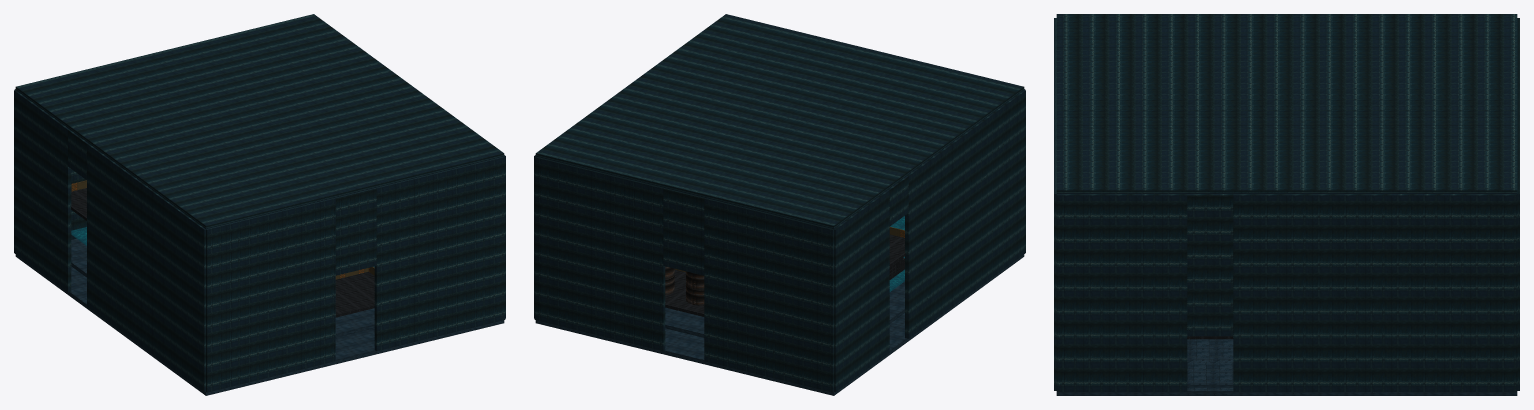
The model's file is rdx_waterworks_freight_sump.glb.
3 views of the same model, side by side, from view 1: azimuth 30°, elevation 25°; view 2: azimuth 150°, elevation 25°; view 3: azimuth 270°, elevation 25° (orthographic). The views are drawn at different scales.
Parts seen in each view (by area): view 1: SHELL_CEILING, SHELL_WALL_SOUTH_RIGHT, SHELL_WALL_SOUTH_0_LEFT, SHELL_WALL_WEST_RIGHT, SHELL_WALL_WEST_0_LEFT, SHELL_FLOOR_BOTTOM, SHELL_DOOR_HEADER_SOUTH_0, WALK_ENTRY_CATWALK, WALK_SUMP_BOTTOM, SHELL_DOOR_HEADER_WEST_0; view 2: SHELL_CEILING, SHELL_WALL_NORTH_RIGHT, SHELL_WALL_NORTH_0_LEFT, SHELL_WALL_WEST_RIGHT, SHELL_WALL_WEST_0_LEFT, SHELL_DOOR_HEADER_NORTH_0, SHELL_FLOOR_BOTTOM, WALK_SUMP_BOTTOM, WALK_NORTH_PUMP_DECK, SHELL_DOOR_HEADER_WEST_0, FIXTURE_RESERVOIR_0, WALK_WEST_GANTRY; view 3: SHELL_CEILING, SHELL_WALL_EAST_0_LEFT, SHELL_WALL_EAST_RIGHT, SHELL_DOOR_HEADER_EAST_0, SHELL_FLOOR_BOTTOM, WALK_DRAIN_TUNNEL, WALK_SUMP_BOTTOM, SHELL_WALL_NORTH_RIGHT, SHELL_WALL_SOUTH_RIGHT.
Boxes of the visible parts, left/top/right/bottom form: SHELL_CEILING: left=15, top=14, right=504, bottom=229; SHELL_WALL_SOUTH_RIGHT: left=374, top=156, right=505, bottom=351; SHELL_WALL_SOUTH_0_LEFT: left=206, top=198, right=335, bottom=392; SHELL_WALL_WEST_RIGHT: left=87, top=143, right=205, bottom=392; SHELL_WALL_WEST_0_LEFT: left=14, top=90, right=71, bottom=292; SHELL_FLOOR_BOTTOM: left=15, top=238, right=504, bottom=395; SHELL_DOOR_HEADER_SOUTH_0: left=335, top=188, right=376, bottom=275; WALK_ENTRY_CATWALK: left=335, top=271, right=374, bottom=317; WALK_SUMP_BOTTOM: left=71, top=253, right=374, bottom=337; SHELL_DOOR_HEADER_WEST_0: left=68, top=129, right=88, bottom=179; SHELL_CEILING: left=535, top=14, right=1024, bottom=229; SHELL_WALL_NORTH_RIGHT: left=534, top=156, right=665, bottom=351; SHELL_WALL_NORTH_0_LEFT: left=704, top=198, right=833, bottom=392; SHELL_WALL_WEST_RIGHT: left=905, top=90, right=1025, bottom=338; SHELL_WALL_WEST_0_LEFT: left=834, top=190, right=889, bottom=392; SHELL_DOOR_HEADER_NORTH_0: left=663, top=188, right=704, bottom=275; SHELL_FLOOR_BOTTOM: left=535, top=254, right=1024, bottom=395; WALK_SUMP_BOTTOM: left=665, top=281, right=904, bottom=337; WALK_NORTH_PUMP_DECK: left=665, top=269, right=704, bottom=316; SHELL_DOOR_HEADER_WEST_0: left=888, top=176, right=908, bottom=226; FIXTURE_RESERVOIR_0: left=686, top=271, right=704, bottom=305; WALK_WEST_GANTRY: left=889, top=234, right=905, bottom=267; SHELL_CEILING: left=1056, top=14, right=1517, bottom=193; SHELL_WALL_EAST_0_LEFT: left=1233, top=194, right=1517, bottom=391; SHELL_WALL_EAST_RIGHT: left=1056, top=194, right=1187, bottom=391; SHELL_DOOR_HEADER_EAST_0: left=1187, top=194, right=1233, bottom=336; SHELL_FLOOR_BOTTOM: left=1056, top=387, right=1517, bottom=395; WALK_DRAIN_TUNNEL: left=1187, top=361, right=1233, bottom=387; WALK_SUMP_BOTTOM: left=1187, top=339, right=1233, bottom=361; SHELL_WALL_NORTH_RIGHT: left=1517, top=118, right=1519, bottom=390; SHELL_WALL_SOUTH_RIGHT: left=1054, top=118, right=1056, bottom=390.
Bounding box in the file's own units: 38.45 × 22.5 × 42.45.
7 materials, 7 textured.
